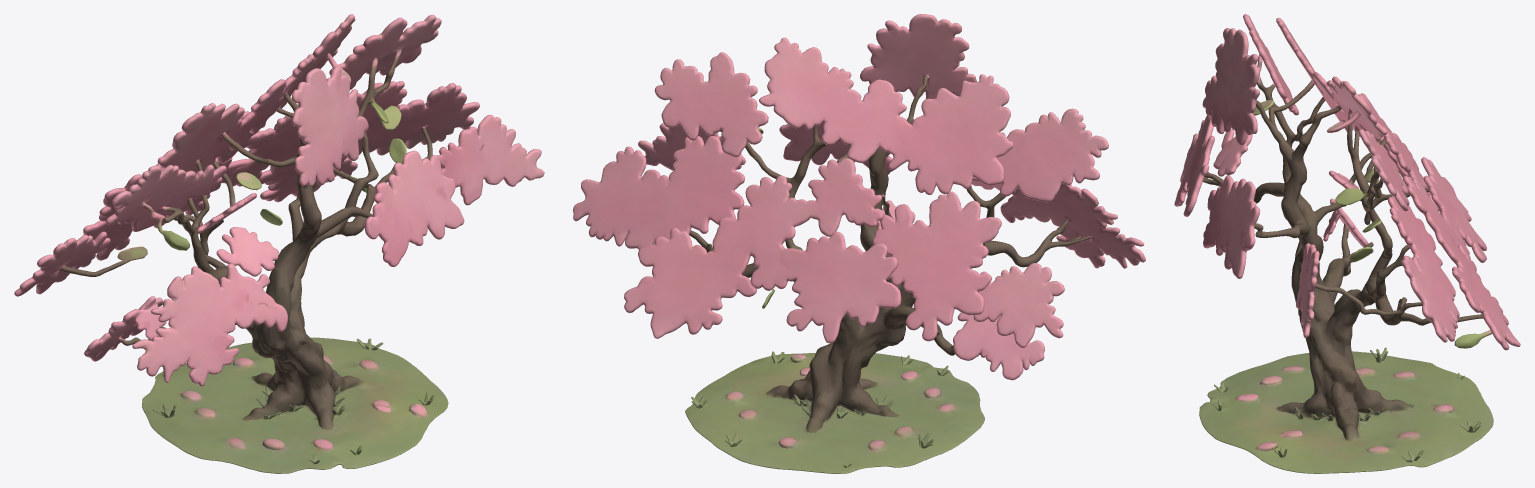
File: peach_w.glb
3 renders of one model, left to right at view 1: azimuth 30°, elevation 25°; view 2: azimuth 150°, elevation 25°; view 3: azimuth 270°, elevation 25°, orthographic. The views are drawn at different scales.
Parts seen in each view (by area): view 1: tripo_node_d01536f7-9fa9-4bac-9214-7c874de1ba37; view 2: tripo_node_d01536f7-9fa9-4bac-9214-7c874de1ba37; view 3: tripo_node_d01536f7-9fa9-4bac-9214-7c874de1ba37.
Boxes of the visible parts, x1,y1,x2,y2 form: tripo_node_d01536f7-9fa9-4bac-9214-7c874de1ba37: [14, 14, 544, 473]; tripo_node_d01536f7-9fa9-4bac-9214-7c874de1ba37: [573, 14, 1145, 473]; tripo_node_d01536f7-9fa9-4bac-9214-7c874de1ba37: [1174, 14, 1520, 473].
Size of the model in its own units: 1 by 0.7624 by 0.6507.
1 material, 1 textured.
